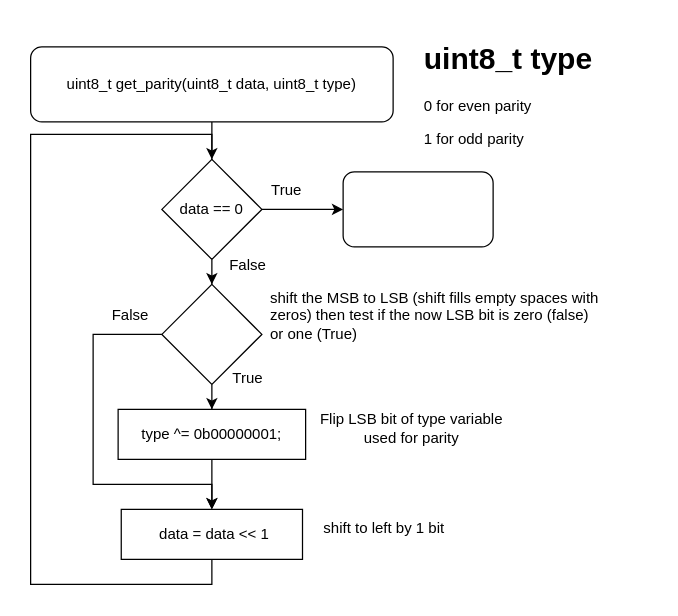
The diagram is 678 pixels wide and 616 high, and some of its shapes have lost their labels. The box of each missing label's shape, as (x1, y1, x2, y2) in pixels:
(data >> 7): (161, 283, 262, 384)
return type;: (342, 171, 493, 247)
